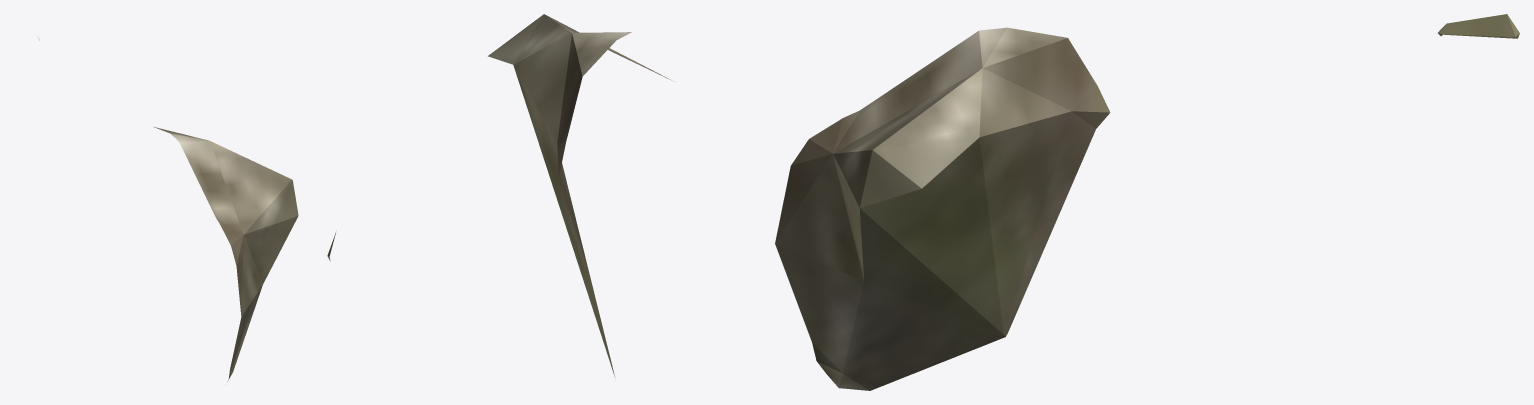
The picture shows the model from 3 angles, left to right: view 1: azimuth 30°, elevation 25°; view 2: azimuth 150°, elevation 25°; view 3: azimuth 270°, elevation 25°; orthographic projection. The views are drawn at different scales.
Bounding box in the file's own units: 0.2448 × 0.5582 × 0.9996.
1 material, 1 textured.
